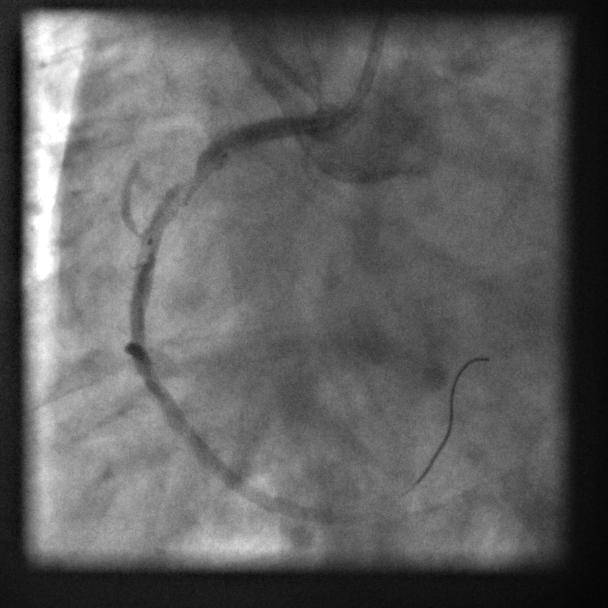Stenosis: (177, 154, 204, 203)
